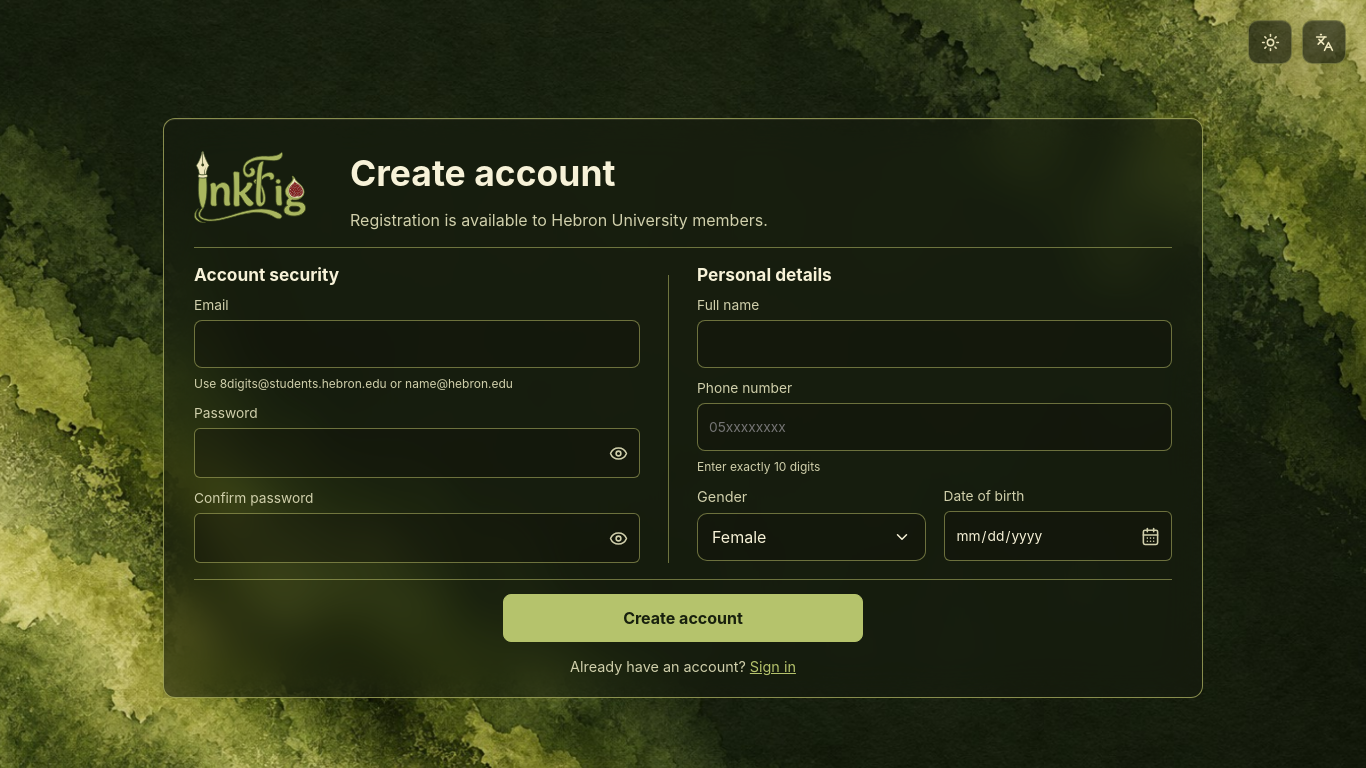
Test: preserves signup validation before sending a request: Enter a valid Hebron University email address.
This screenshot has width=1366, height=768.
In the field labelled "Email Use 8digits@students.hebron.edu or name@hebron.edu": (417, 344) [194,320,640,368], type "artist@example.com"
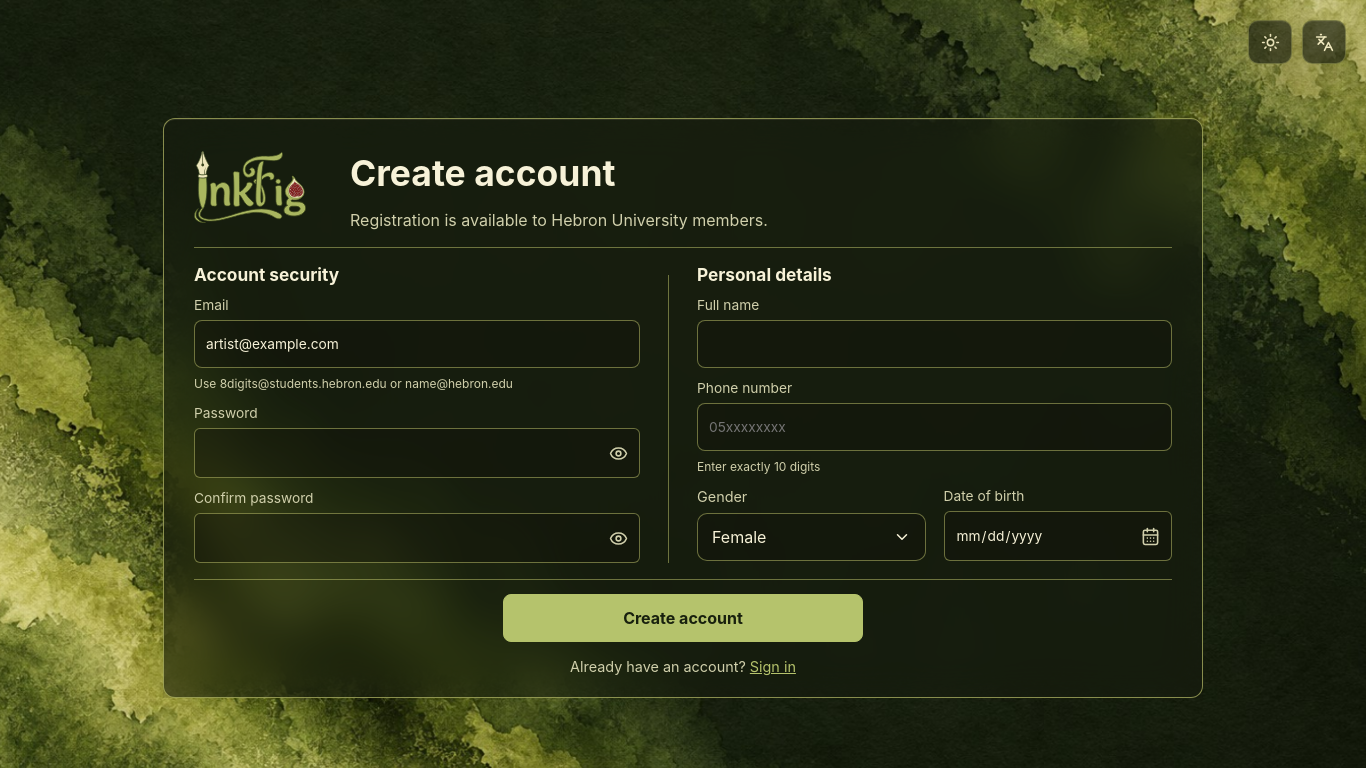
In the field labelled "Phone number Enter exactly 10 digits": (934, 427) [697,403,1172,451], type "0591234567"
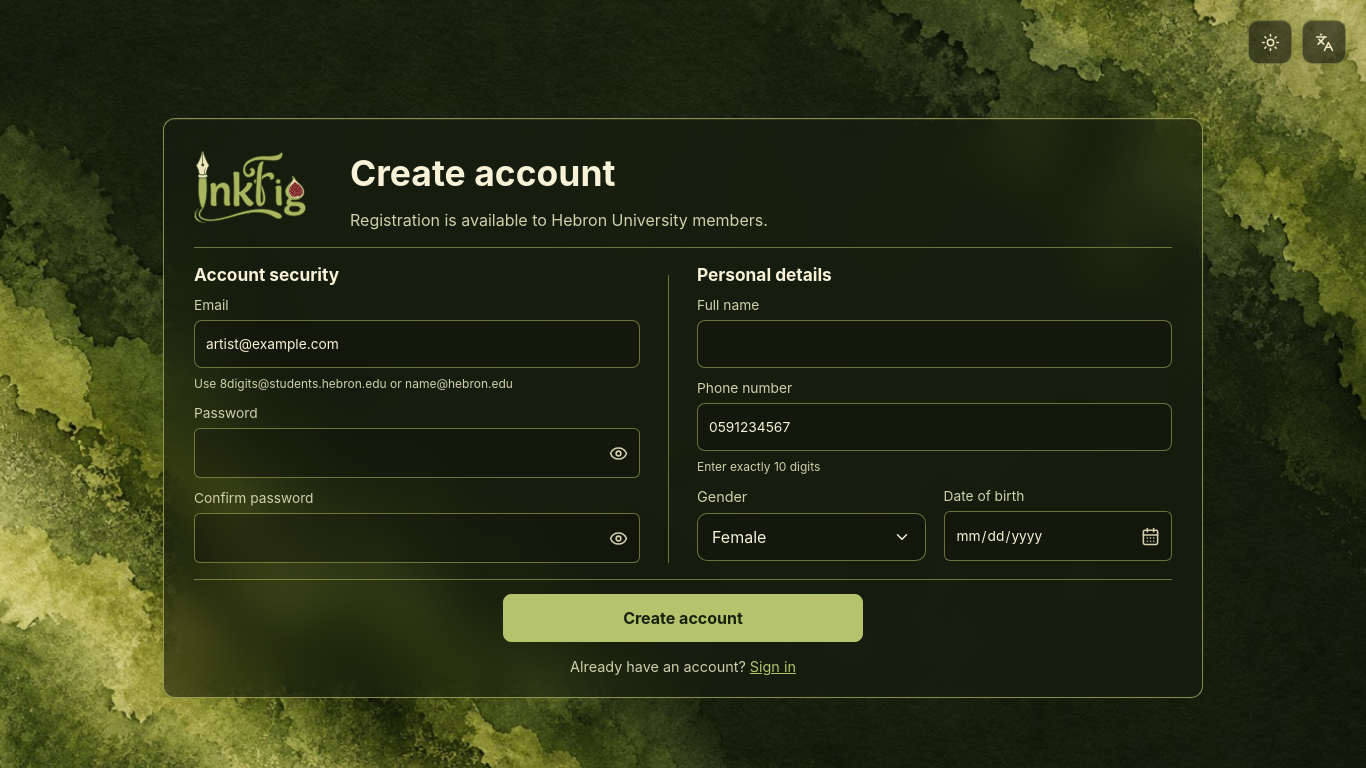
In the password field labelled "Password": (396, 453) [195,429,597,477], type "SecurePass123"
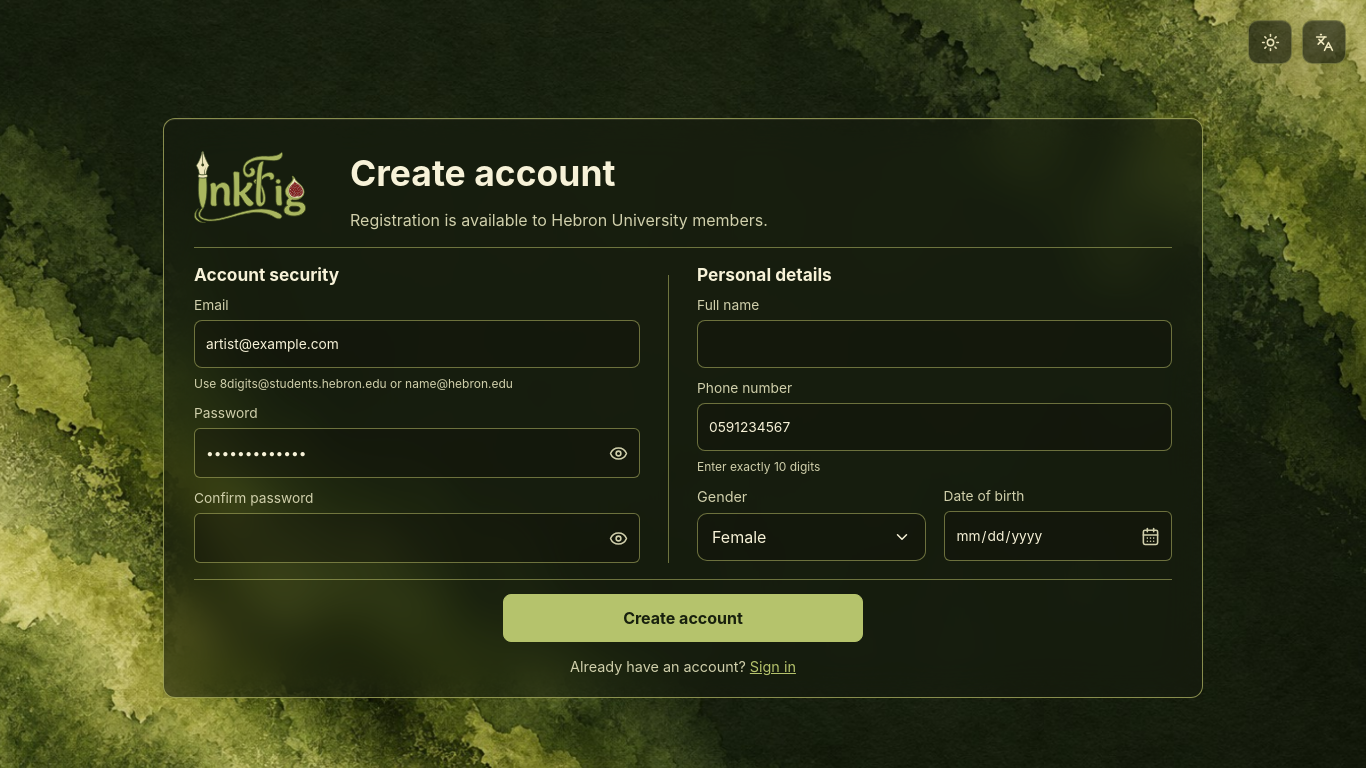
In the password field labelled "Confirm password": (396, 538) [195,514,597,562], type "SecurePass123"
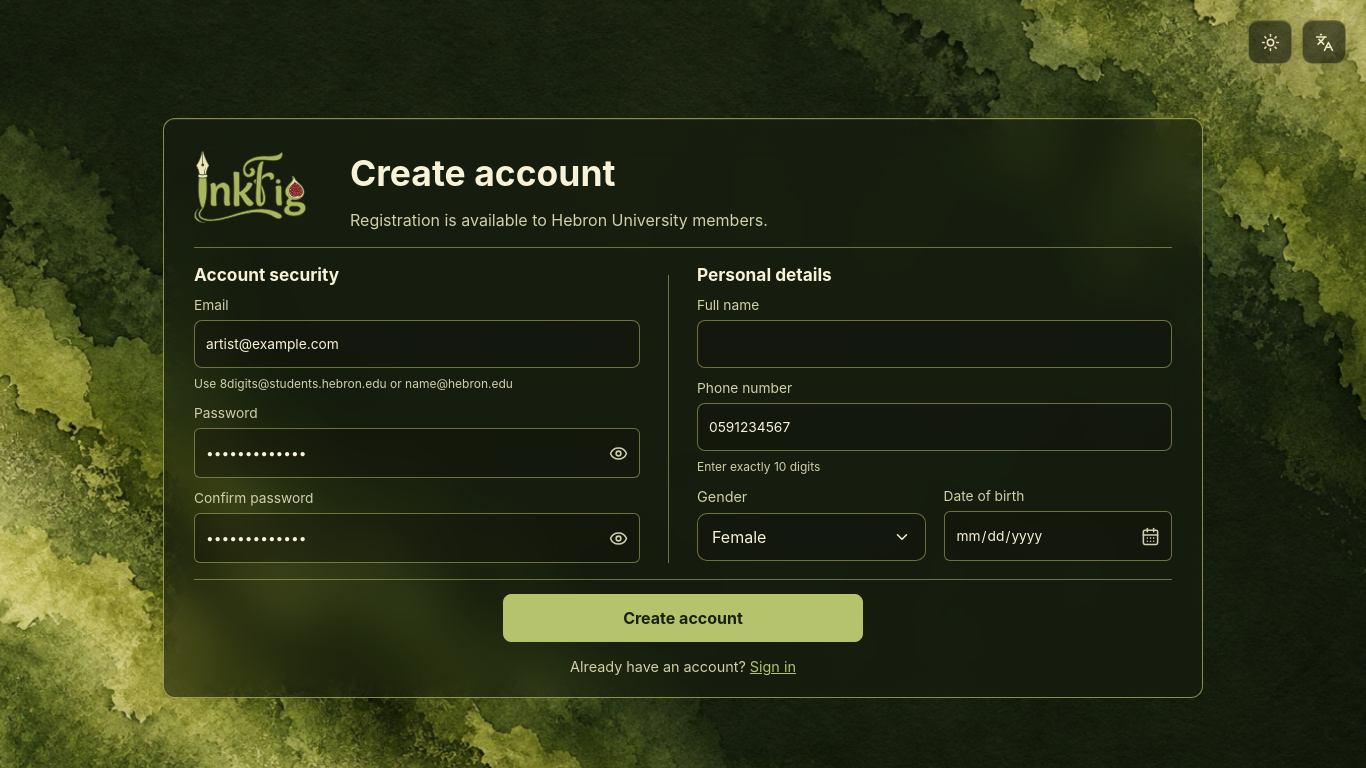
Submit the form, box [194,264,1172,642]
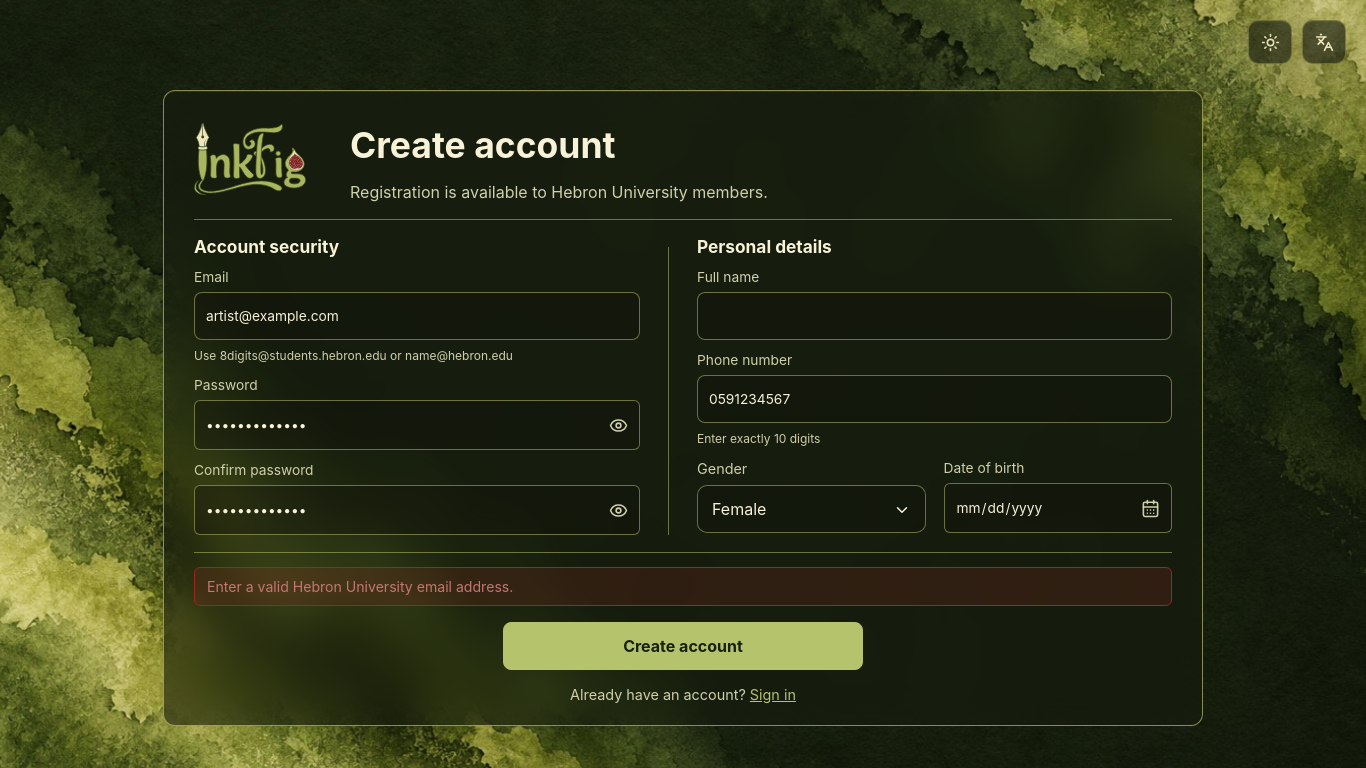
Result: the message reads "Enter a valid Hebron University email address." at [207,578,513,595]
